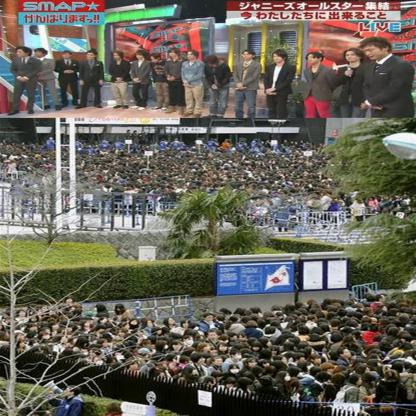face: (364, 46, 386, 60), (346, 53, 360, 63), (308, 56, 320, 64), (274, 55, 284, 63), (244, 53, 254, 60), (18, 51, 28, 58), (64, 389, 72, 397), (173, 344, 182, 351), (188, 53, 196, 60), (344, 351, 352, 358), (215, 360, 223, 367), (231, 367, 239, 374), (270, 350, 278, 357), (87, 54, 96, 60), (249, 362, 258, 368), (356, 379, 363, 386), (210, 334, 218, 340), (234, 354, 242, 360), (220, 346, 228, 352), (186, 339, 194, 345), (131, 364, 139, 370), (239, 337, 247, 343), (227, 383, 235, 389), (35, 52, 44, 57), (137, 54, 144, 60), (115, 55, 122, 61), (329, 368, 335, 375), (183, 321, 190, 327), (62, 338, 69, 344), (281, 359, 288, 365), (265, 341, 272, 347), (364, 370, 371, 376), (151, 58, 159, 63), (63, 54, 71, 59), (253, 347, 261, 352), (314, 359, 322, 364), (208, 63, 217, 67), (199, 357, 205, 363), (204, 346, 210, 352), (147, 322, 153, 328), (285, 375, 291, 381), (299, 357, 305, 363), (170, 52, 177, 57), (207, 317, 214, 322), (263, 363, 270, 368), (169, 320, 176, 325), (131, 321, 138, 326), (30, 328, 37, 333), (31, 317, 38, 322), (19, 343, 25, 348), (53, 325, 59, 330), (191, 371, 197, 376), (20, 313, 26, 318), (114, 330, 120, 335), (146, 344, 151, 349), (103, 342, 108, 347), (44, 331, 50, 335), (117, 308, 123, 312), (102, 320, 108, 324), (4, 315, 9, 319), (172, 358, 177, 362), (67, 299, 72, 303), (95, 308, 100, 312), (85, 322, 89, 327), (381, 296, 385, 300), (187, 360, 191, 364), (241, 186, 245, 190)
